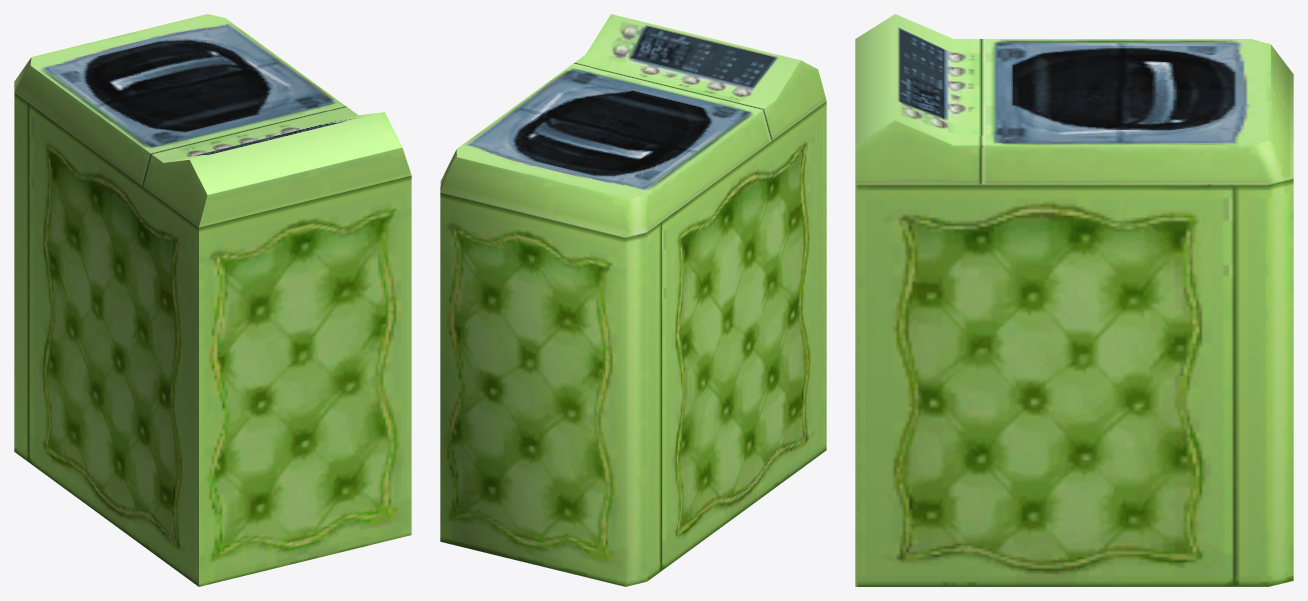
File: furni_0200026-1.FBX
3 views of the same model, side by side, from view 1: azimuth 30°, elevation 25°; view 2: azimuth 150°, elevation 25°; view 3: azimuth 270°, elevation 25° (orthographic). The views are drawn at different scales.
Visible parts, largest first — view 1: furni_0200026-1; view 2: furni_0200026-1; view 3: furni_0200026-1.
Part boxes in pixels (left/top/right/bottom): furni_0200026-1: left=14, top=14, right=411, bottom=586; furni_0200026-1: left=440, top=14, right=826, bottom=586; furni_0200026-1: left=855, top=14, right=1293, bottom=586.
Bounding box in the file's own units: 45.7 × 84.56 × 72.8.
Materials: 1 (1 with a texture image).
